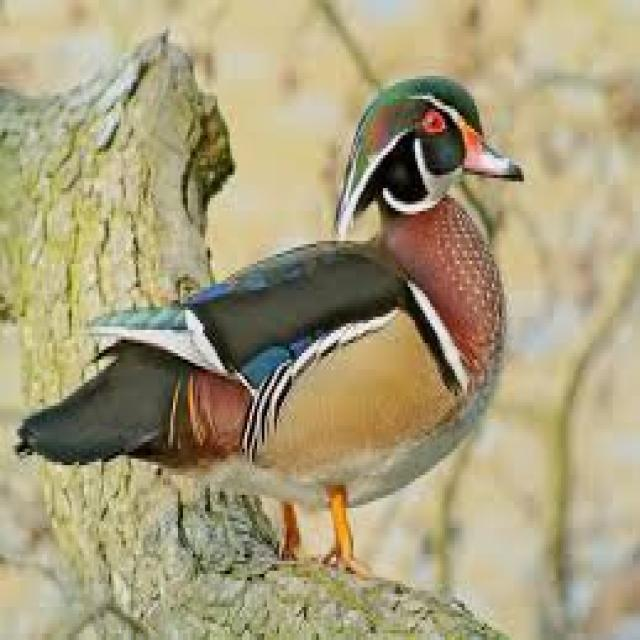Duck: (15, 63, 538, 569)
